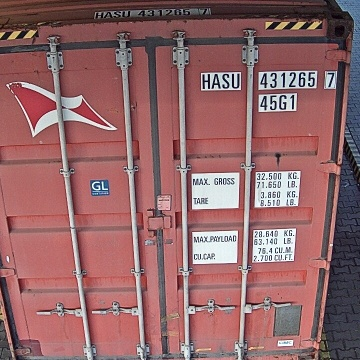serial_id: (202, 71, 335, 88)
